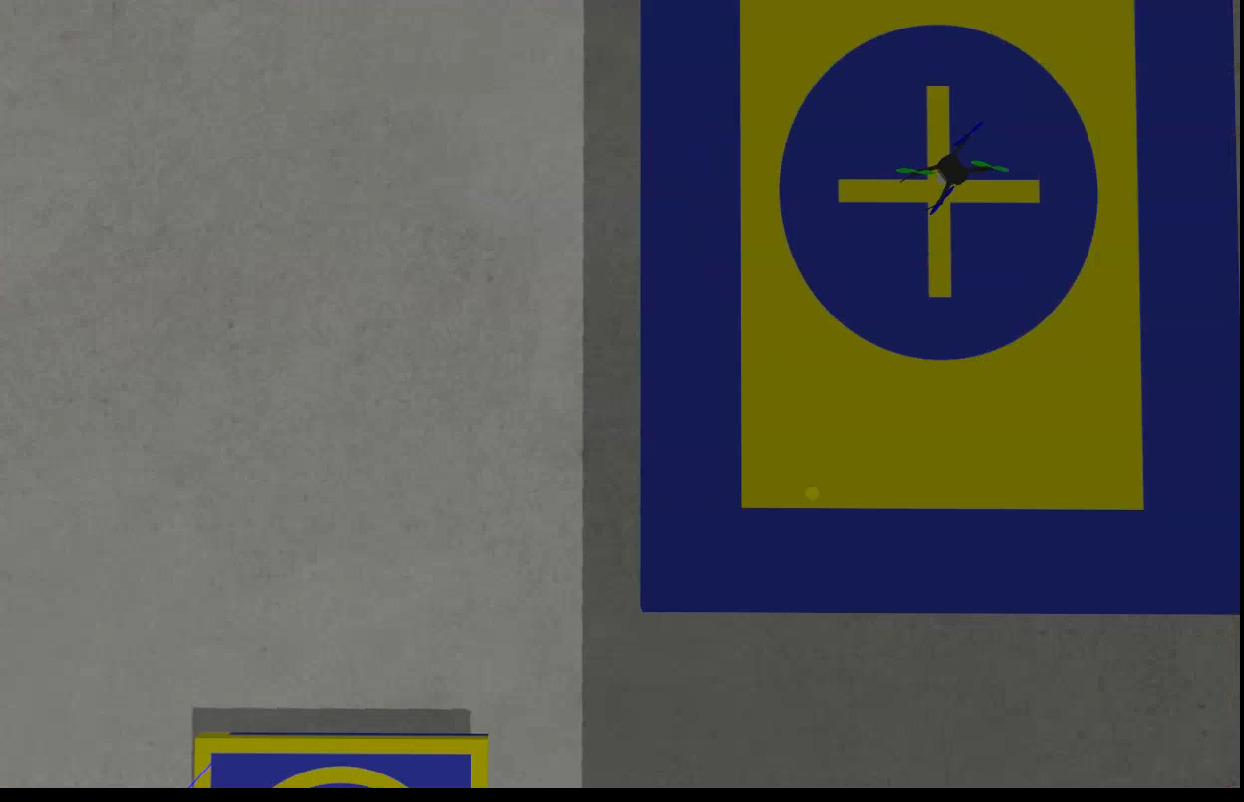large_base: (637, 1, 1244, 614)
small_base: (194, 731, 490, 793)
